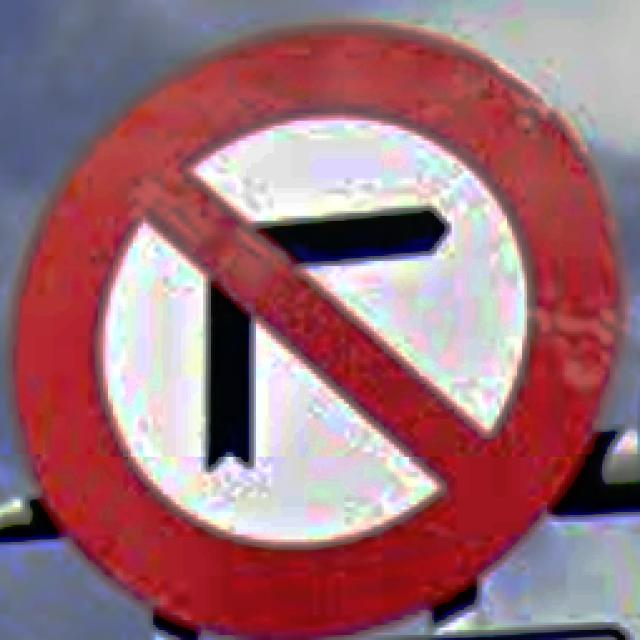noturnright: (10, 23, 627, 640)
